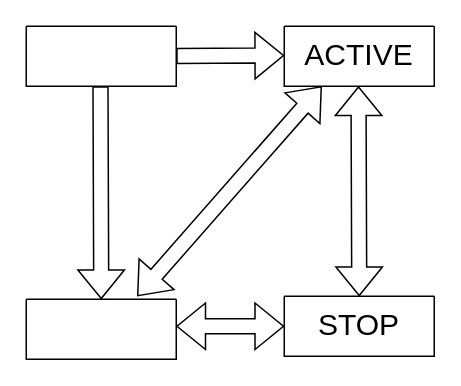
Some shapes in this 461 by 386 pixel diagram are drawn without their labels. The shapes that lost their labels are listed below. From the top down, each one's centre as x and y in pixels, then its label:
At point 100,55: "INIT".
At point 100,328: "SLAVE".
